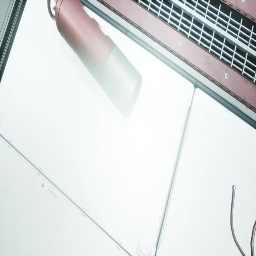NitrogenTank ,: (47, 0, 142, 118)
